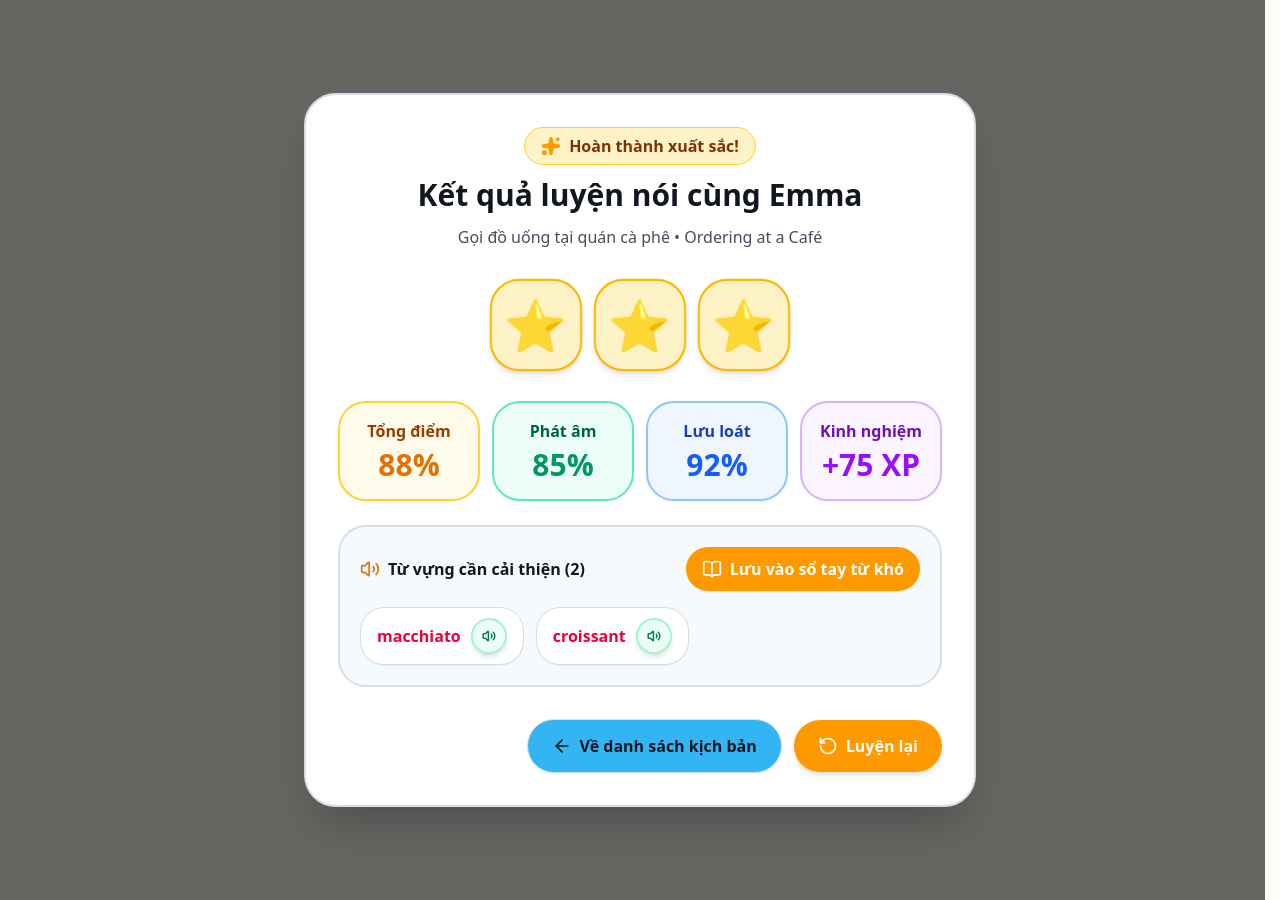
it: SpeakingPodiumModal Component › displays mispronounced words and wires add to mistakes button with feedback state
The width and height of the screenshot is (1280, 900).
Check: the text "macchiato" is shown, box [377, 624, 461, 648]
Check: the text "croissant" is shown, box [553, 624, 626, 648]
# Click add to mistakes
Click the button with test id "add-to-mistakes-button" at (803, 569), box [686, 547, 920, 591]
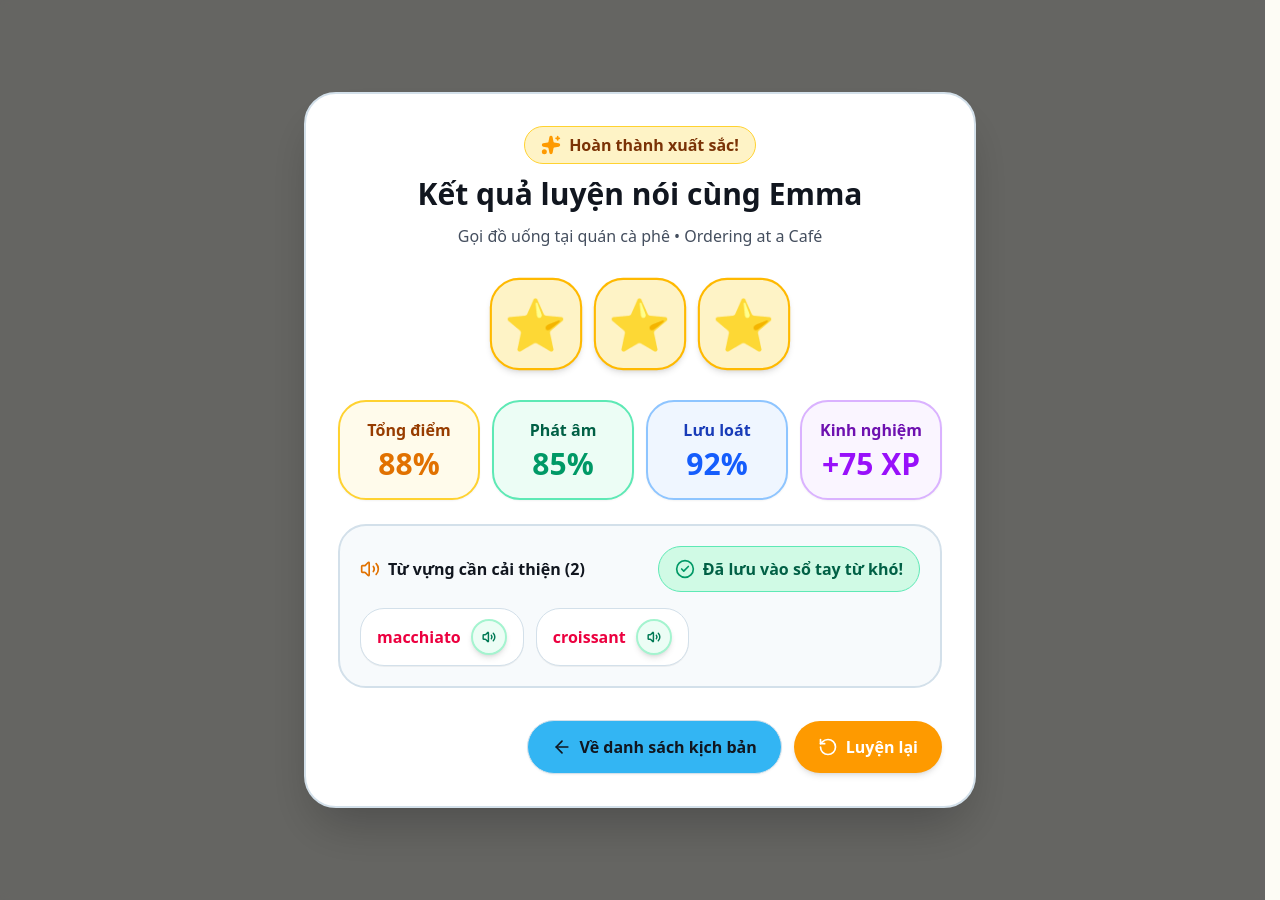
Check: the element with test id "added-to-mistakes-feedback" is shown, box [658, 546, 920, 592]
Check: the element with test id "added-to-mistakes-feedback" shows "sổ tay", box [703, 558, 903, 580]
